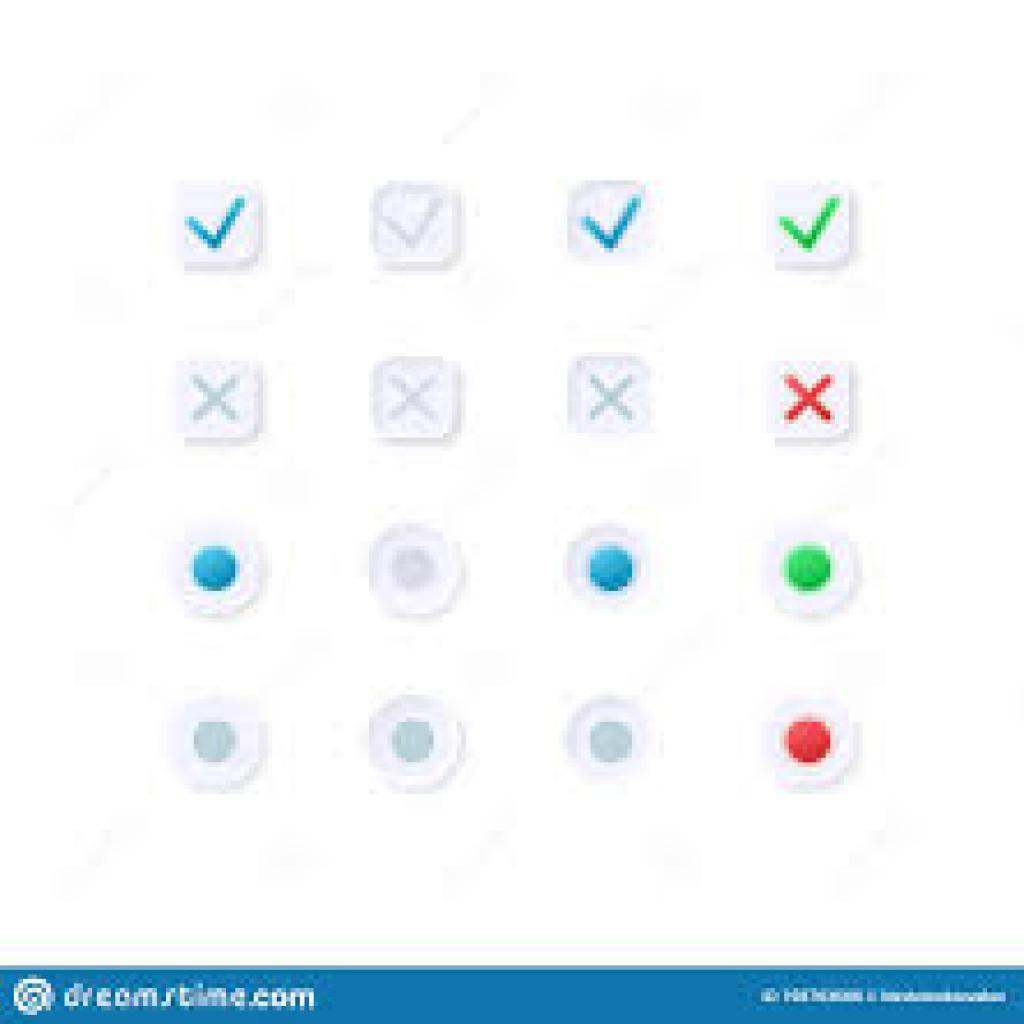checkbox: (167, 182, 273, 271), (373, 357, 468, 446), (369, 181, 468, 266), (571, 359, 660, 449), (570, 178, 660, 266), (176, 368, 273, 447), (766, 361, 854, 441), (767, 182, 851, 261)
radio: (756, 519, 870, 630), (158, 691, 274, 798), (364, 518, 471, 626), (756, 697, 868, 799), (562, 690, 668, 793), (364, 697, 471, 791), (563, 519, 662, 619), (167, 526, 268, 621)
